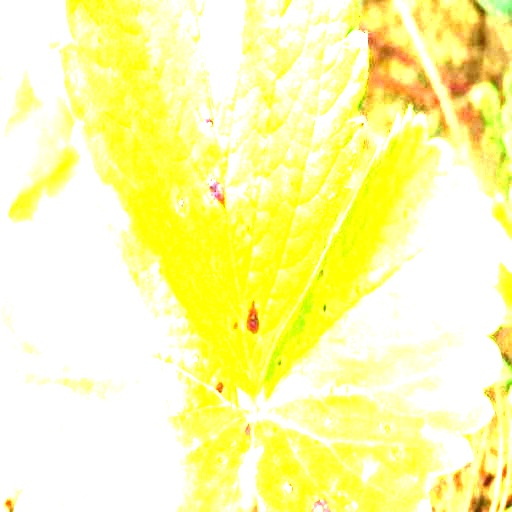Leaf Spot: (55, 0, 370, 401), (252, 104, 505, 511), (0, 160, 252, 511)
